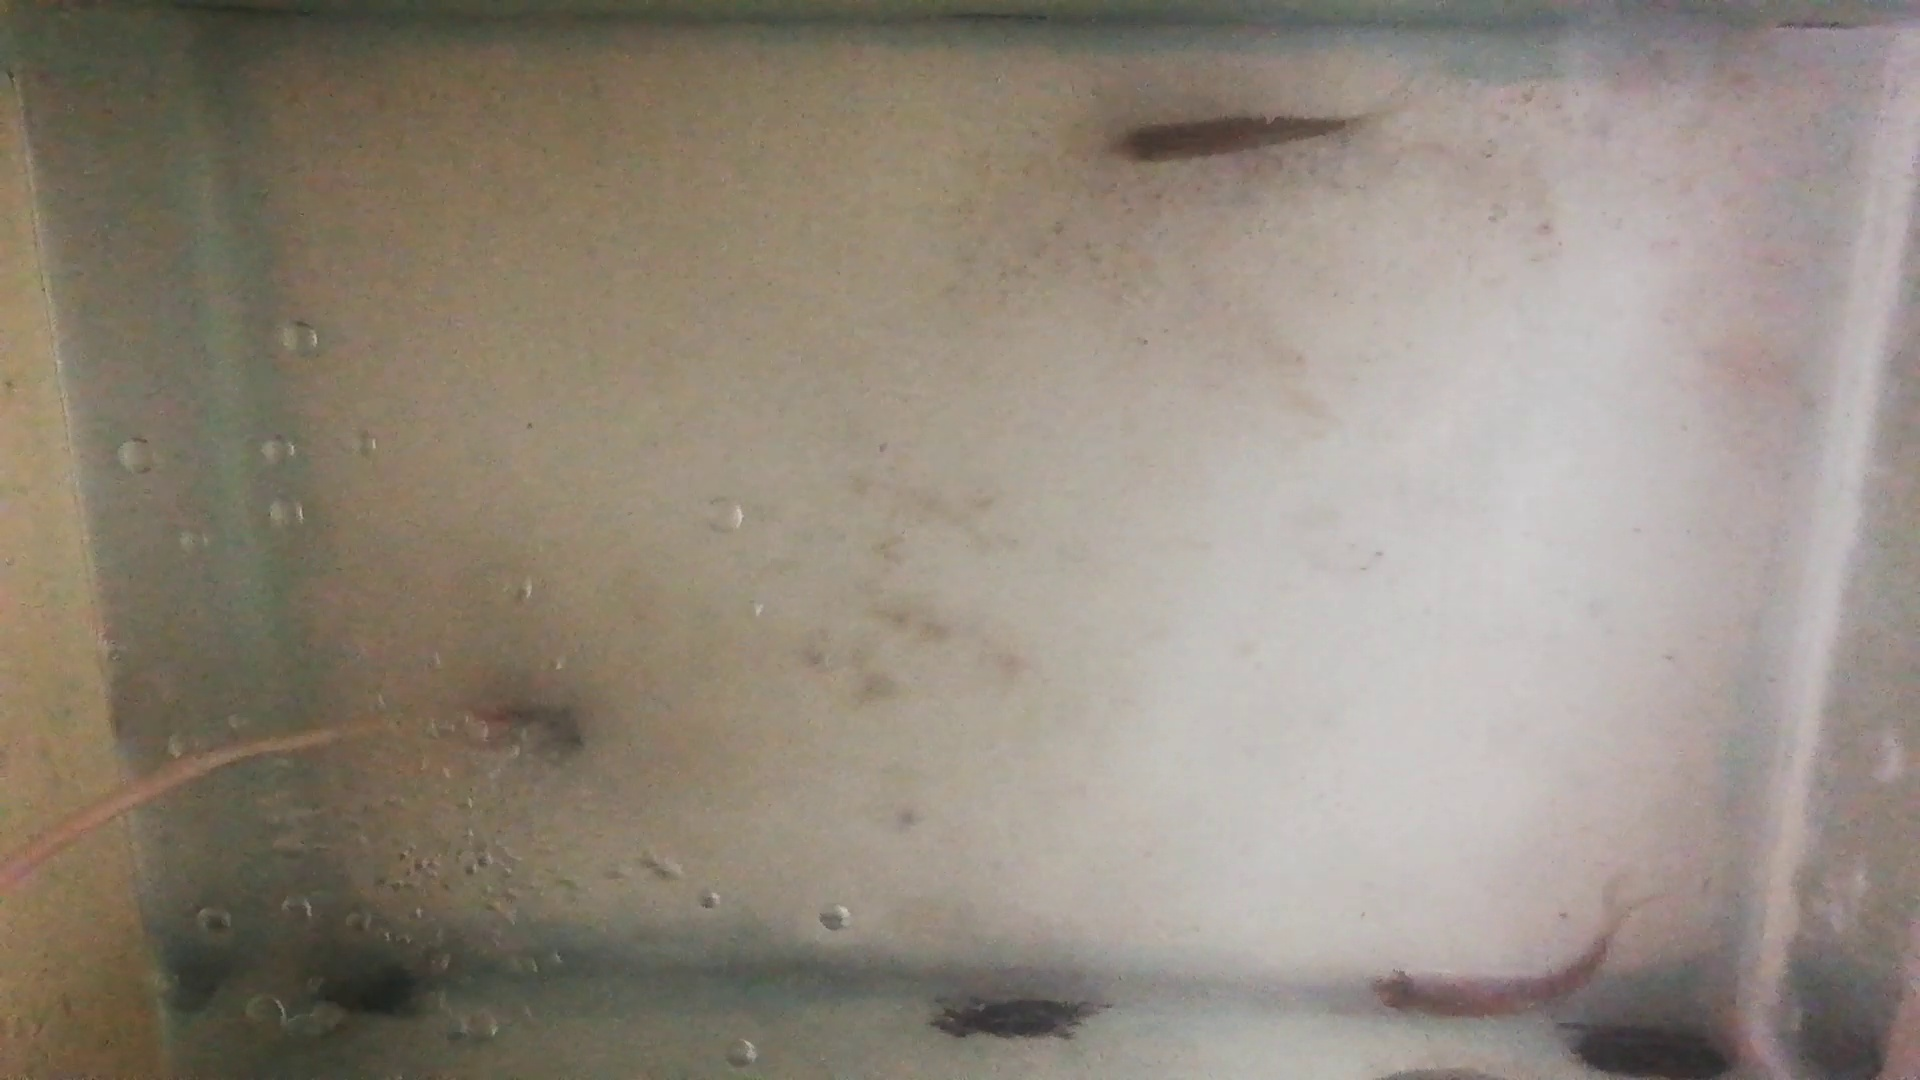fish: (1374, 934, 1615, 1018), (1105, 112, 1360, 164)
